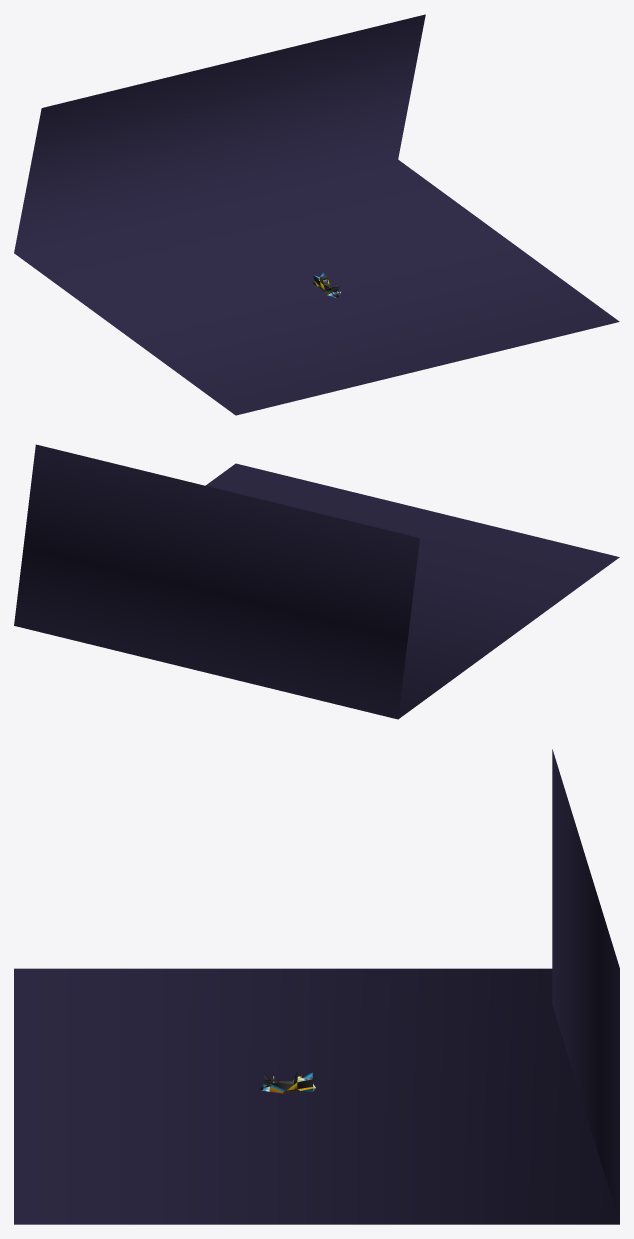
Rendered from BllackCOmetTestMaterial.fbx.
The picture shows the model from 3 angles, top to bottom: view 1: azimuth 30°, elevation 25°; view 2: azimuth 150°, elevation 25°; view 3: azimuth 270°, elevation 25°; orthographic projection. The views are drawn at different scales.
Visible parts, largest first — view 1: Bg; view 2: Bg; view 3: Bg, Cube.001.
Part boxes in pixels (box(x1,y1,x2,y2)): Bg: box(14, 14, 619, 415); Bg: box(14, 444, 619, 719); Bg: box(14, 749, 619, 1224); Cube.001: box(260, 1071, 315, 1093).
Bounding box in the file's own units: 4009 × 1609 × 3979.
